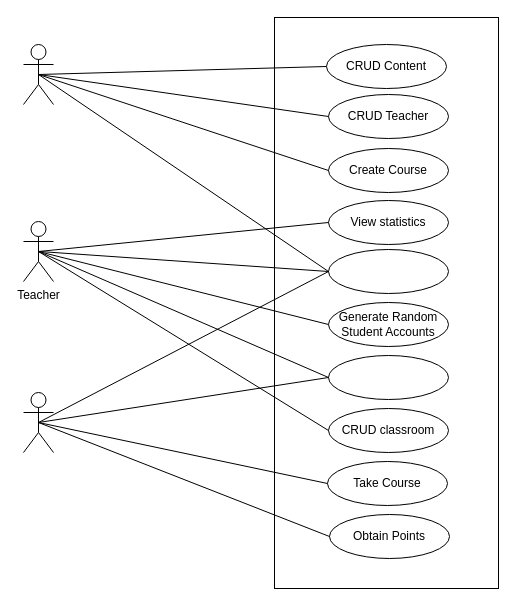
Image size: 516x606. Some labels were removed from this diagram. Here are the shapes that lost their labels. From the top down, the centre of each, then its label:
At point 38,74: "Admin".
At point 388,271: "Login".
At point 388,377: "Forgot Password".
At point 38,422: "Student".
